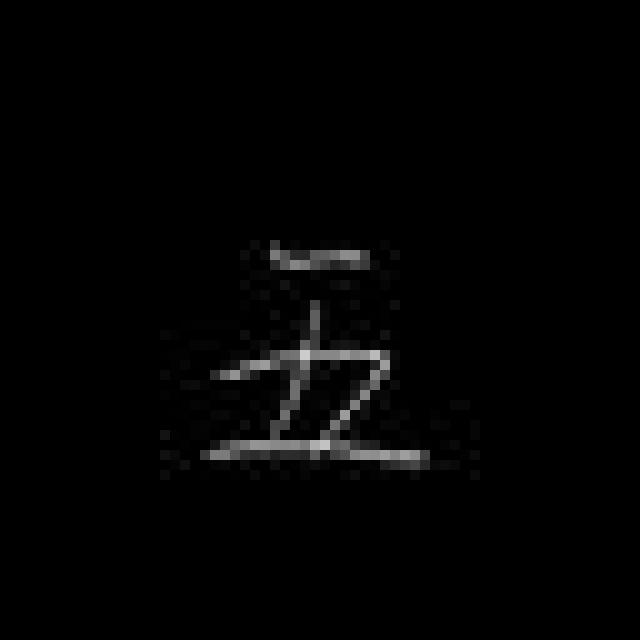5 -five-: (188, 230, 436, 481)
